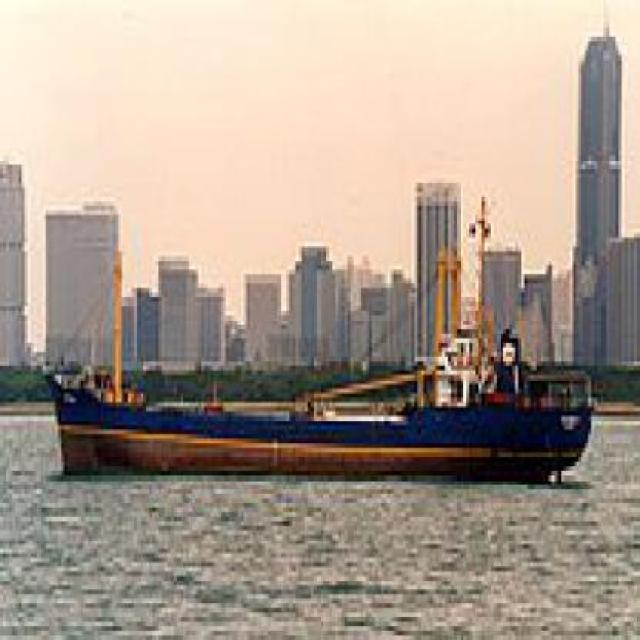container: (40, 335, 605, 499)
